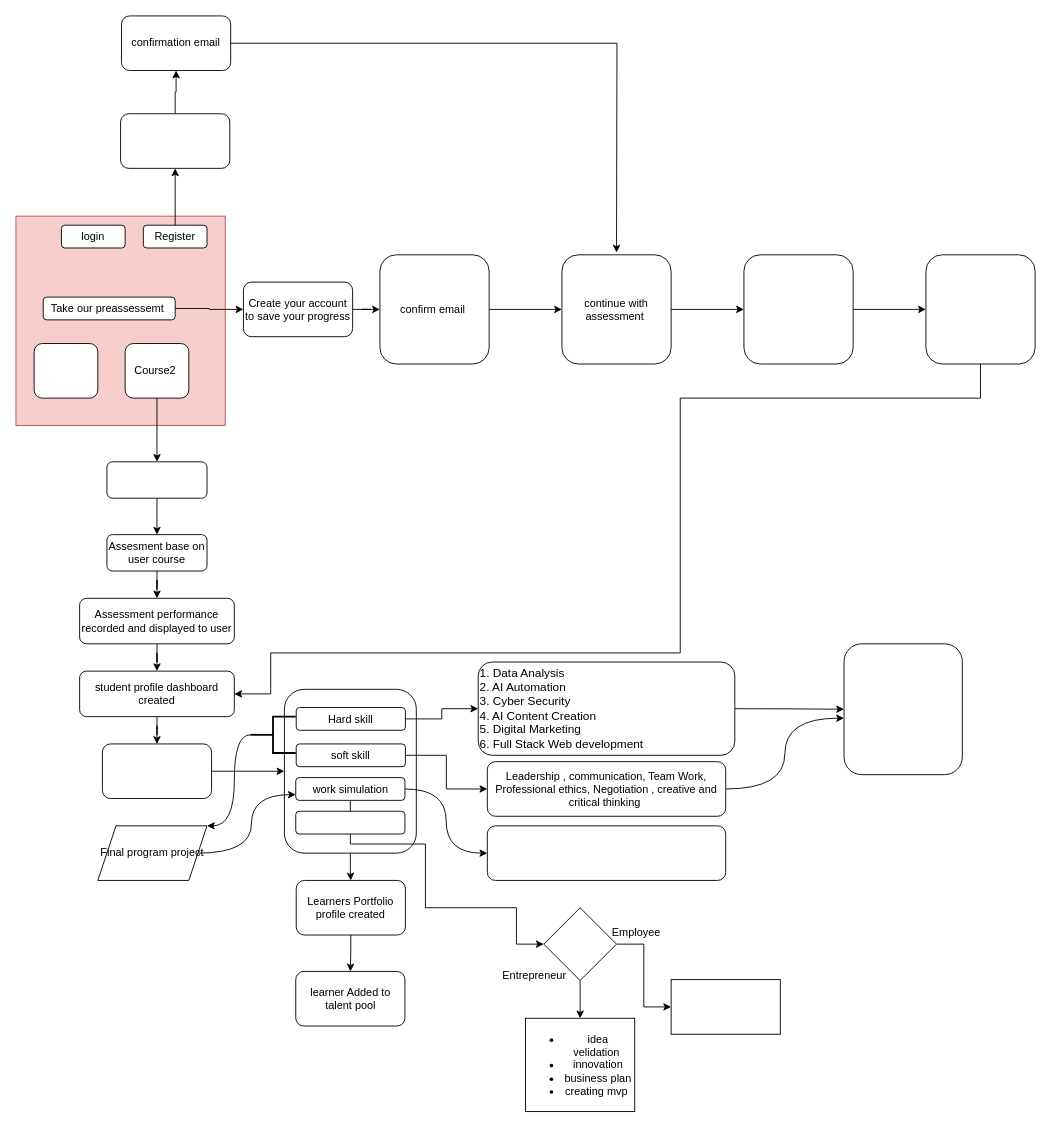
Image size: 1051x1127. Some labels were removed from this diagram. Here are the shapes that lost their labels. From the top down, the centre of each, then its label:
At point 175,140: "registration page".
At point 798,309: "AI generated questions base on interest".
At point 980,309: "Suggested and recommended Course base on user survey and interest.".
At point 65,370: "course 1".
At point 156,479: "creates account".
At point 902,709: "lesson contents broken down into weeks with assignment for each week and project".
At point 156,771: "Learning Activities".
At point 350,822: "Career Readiness".
At point 606,852: "simulate a cooperate environment with role and task assigned".
At point 725,1006: "cv and resume set up interview preparation".
